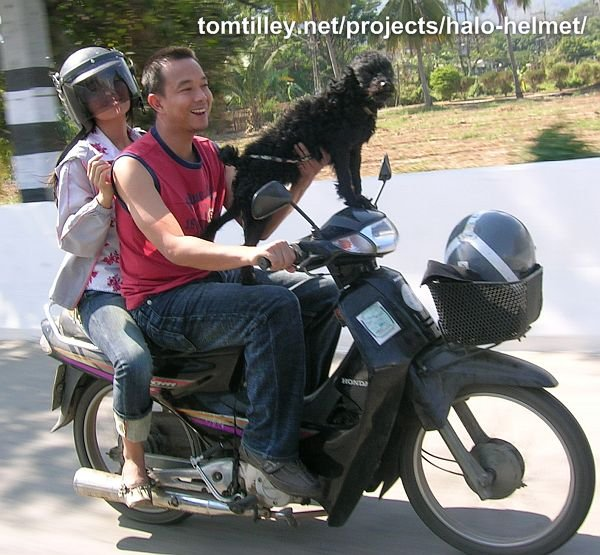with_helmet: (54, 46, 143, 136)
